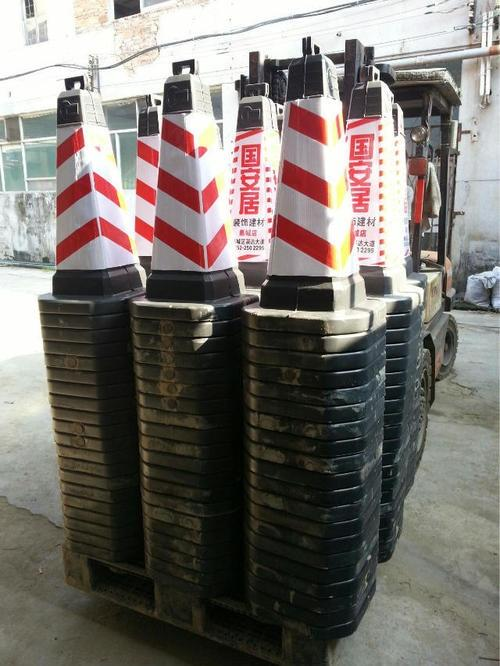cone_barrel: (257, 47, 368, 307), (33, 70, 140, 300), (141, 70, 244, 300), (337, 66, 412, 291)
